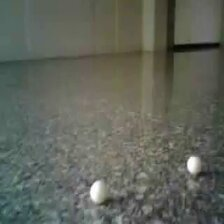w: (90, 179, 107, 205), (187, 157, 202, 174)
